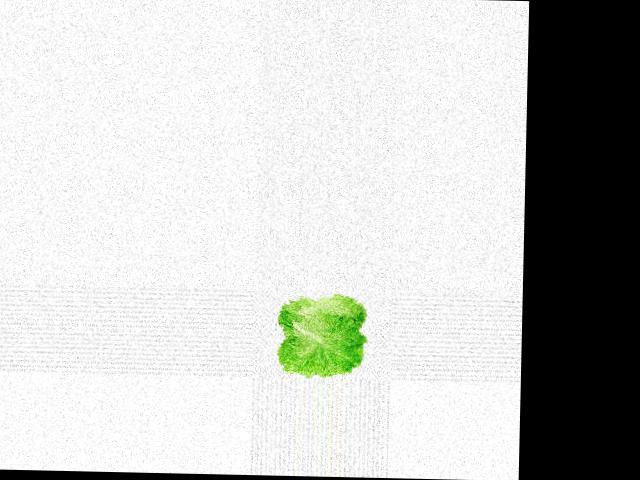lettuce: (270, 290, 374, 380)
